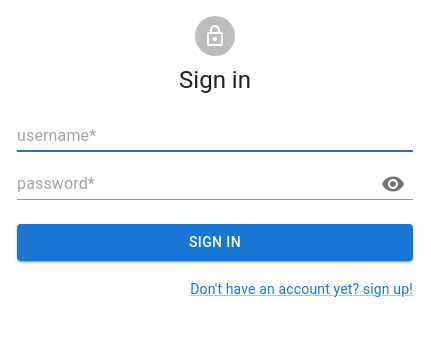
can sign in properly
Type "112233" into the password field with test id "signinPassword" at (191, 184), box [17,168,365,200]
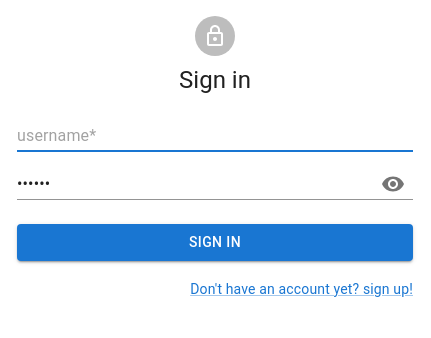
Type "admin" into the field with test id "signinUsername" at (215, 136), box [17,120,413,152]
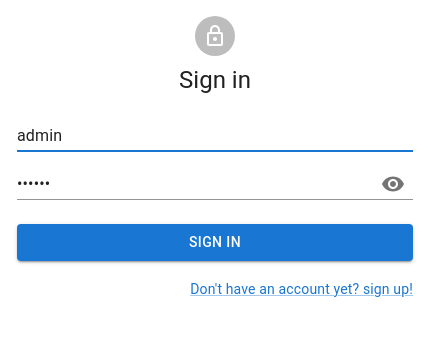
Click the button "Sign In" at (215, 242), box [17,224,413,260]
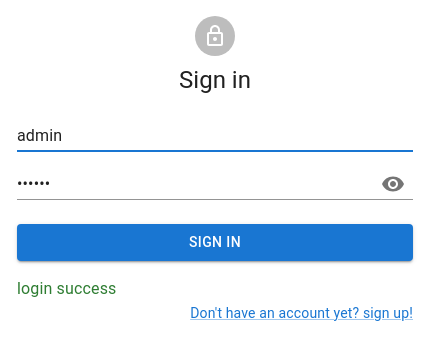
Result: the text "login success" is shown at [17,276,116,300]
